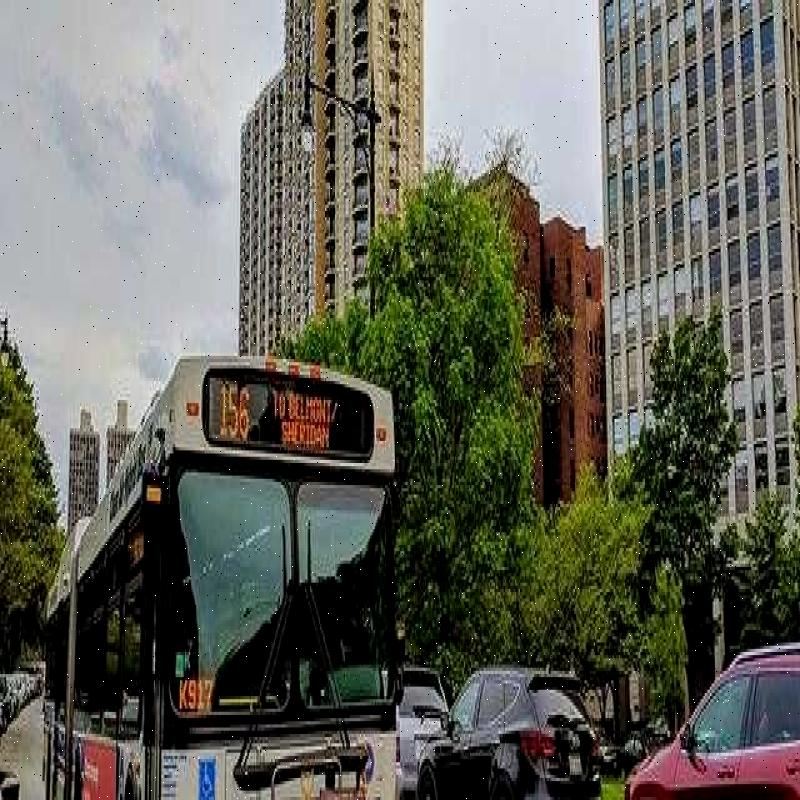bus: (67, 374, 407, 800)
